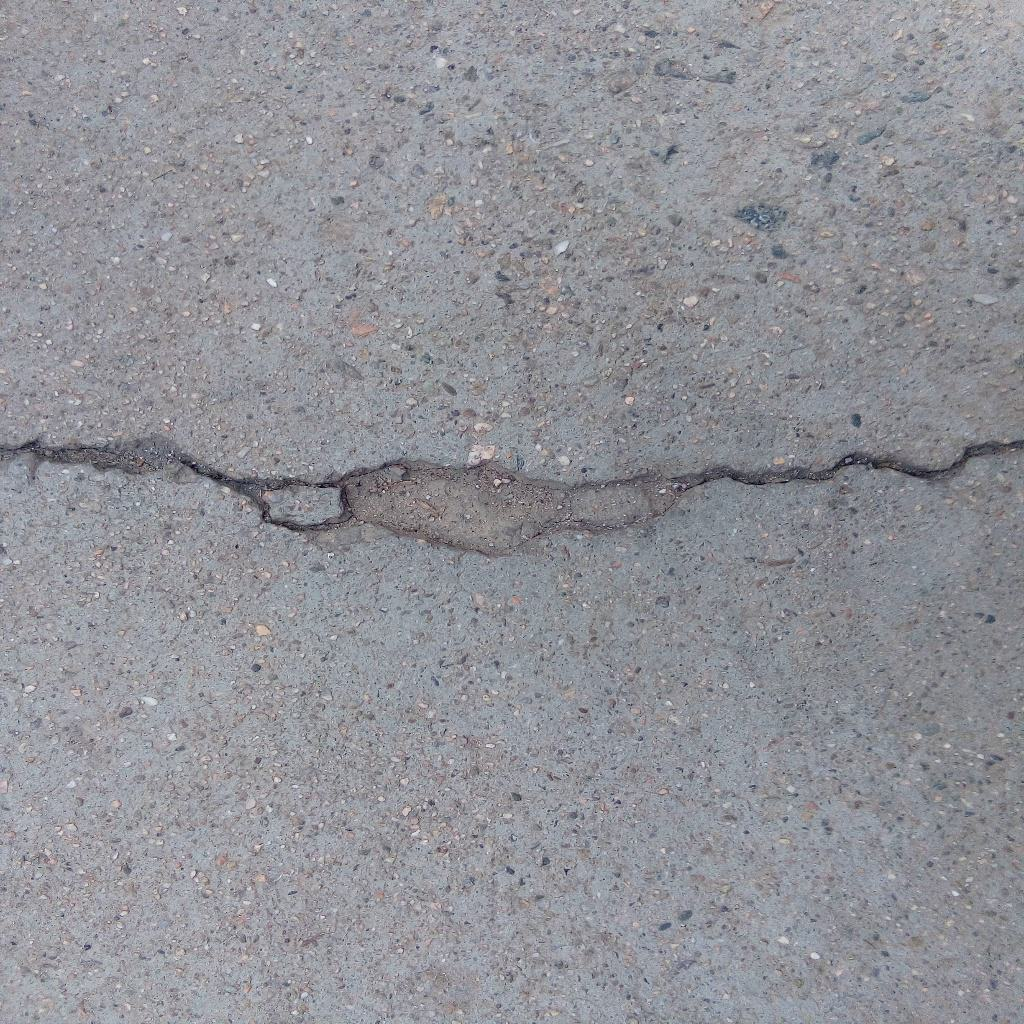Crack: (1, 436, 1024, 557)
